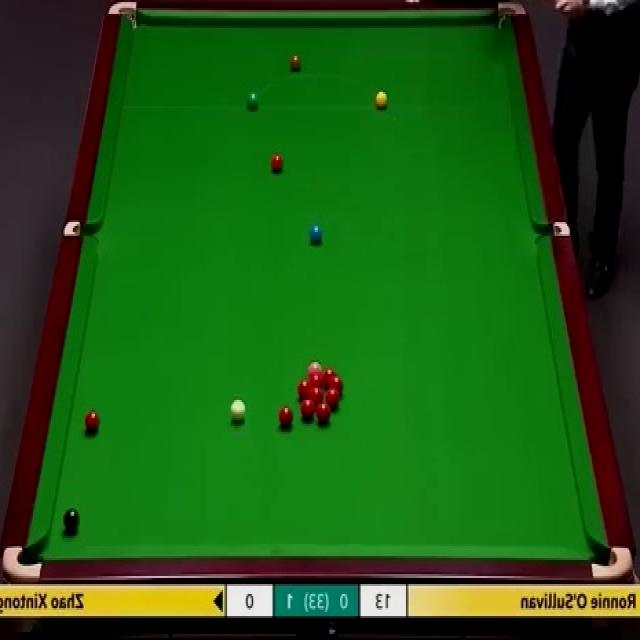pocket: (3, 543, 42, 583), (594, 548, 630, 580), (496, 0, 528, 29), (108, 0, 137, 31), (63, 220, 98, 237), (536, 223, 570, 239)
